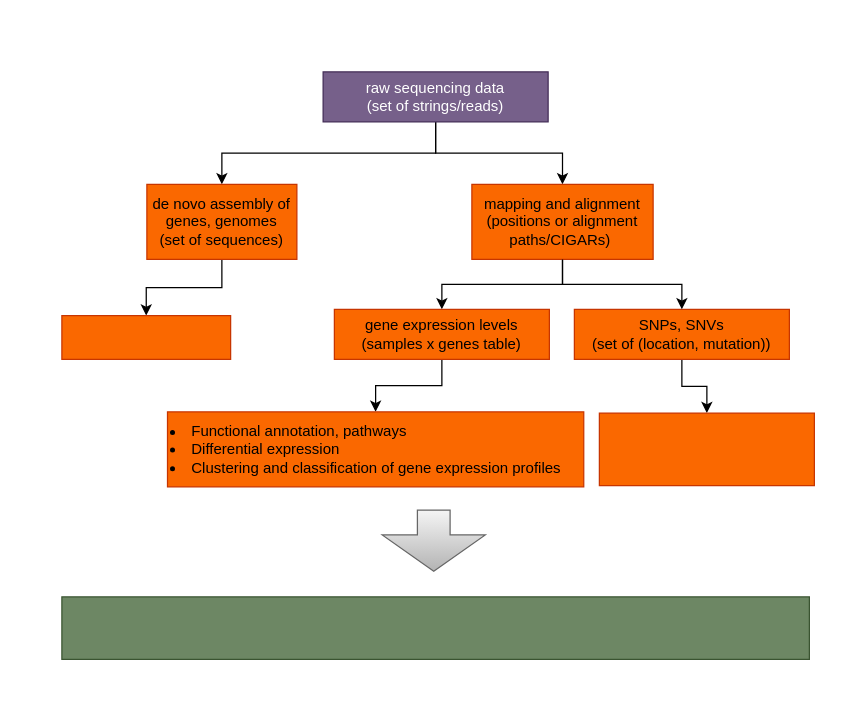
This 868x718 diagram has some shape labels left out. The shapes that lost their labels are listed below. From the top down, each one's centre as x and y in pixels, then its label:
At point 146,336: "phylogenetic tree (tree)".
At point 706,449: "Variant annotation Association studies (GWAS) Functional impact prediction".
At point 435,627: "Data Integration ML Applications ( Predictive modeling, Feature selection )".
